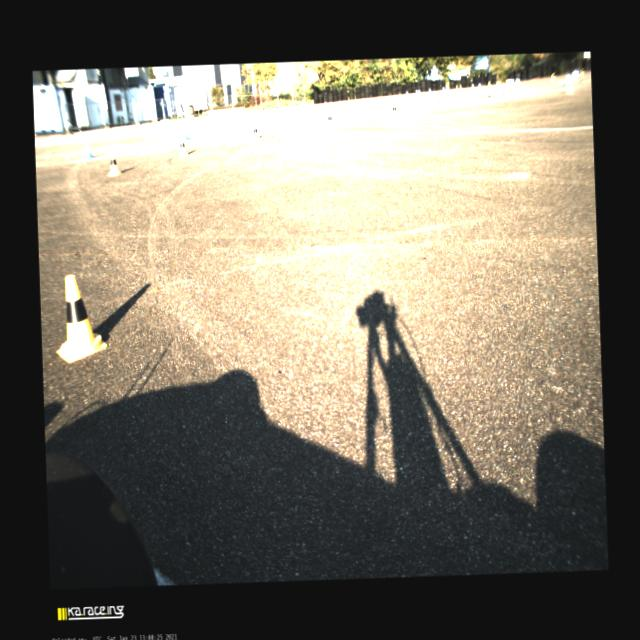blue_cone: (82, 140, 94, 158), (562, 74, 570, 87), (282, 113, 289, 124), (183, 128, 189, 140), (356, 102, 362, 114), (502, 84, 508, 95), (436, 94, 442, 103), (516, 78, 520, 86), (471, 83, 474, 89), (442, 85, 444, 92), (478, 82, 480, 89), (428, 88, 431, 92), (418, 88, 420, 94), (414, 88, 416, 94), (406, 90, 408, 95)
yellow_cone: (53, 272, 109, 364), (105, 148, 122, 176), (178, 136, 188, 158), (564, 78, 574, 95), (251, 122, 260, 140), (390, 102, 398, 117), (326, 111, 333, 127), (486, 90, 494, 104), (549, 72, 555, 82), (514, 78, 518, 84), (455, 84, 458, 90), (459, 84, 462, 89), (488, 80, 490, 86)
